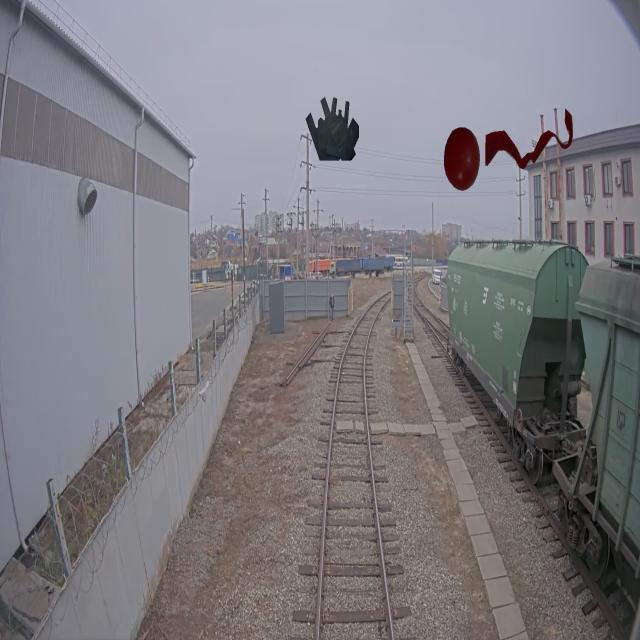balloon: (443, 127, 480, 191)
floating object: (484, 106, 574, 170)
plastic bag: (305, 96, 359, 160)
